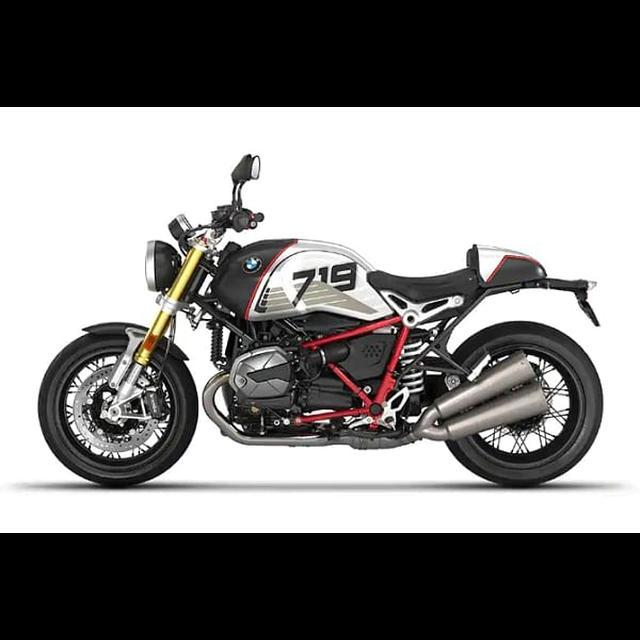motorcycle: (35, 147, 605, 492)
